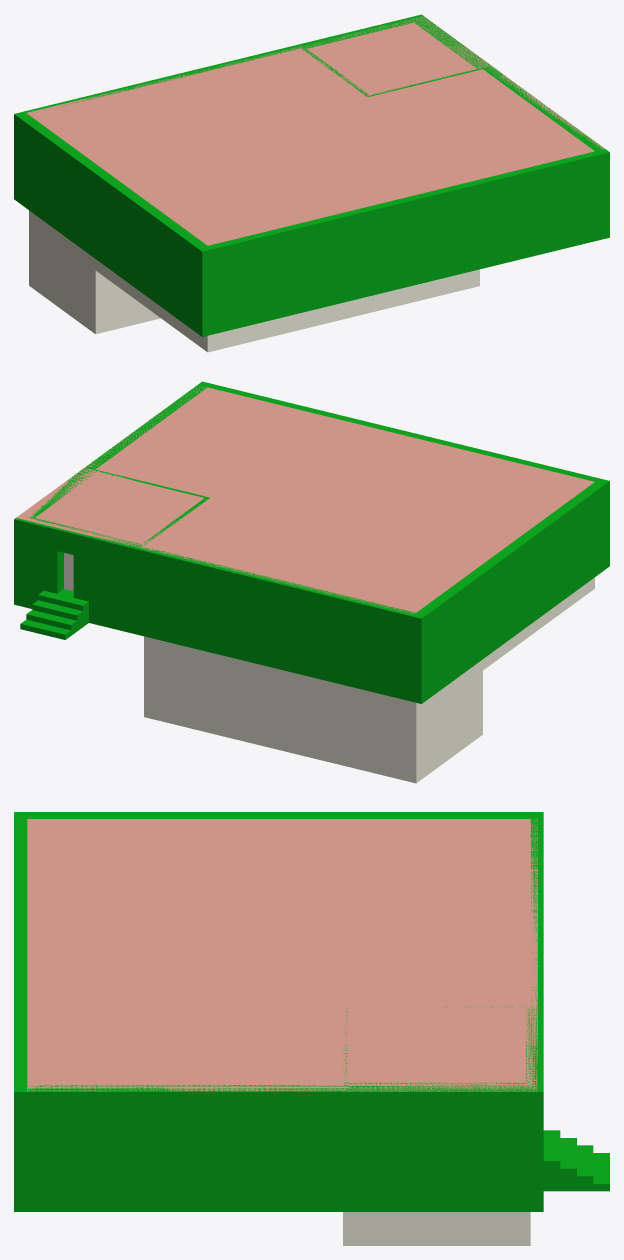
The model's file is building.gltf.
3 renders of one model, top to bottom at view 1: azimuth 30°, elevation 25°; view 2: azimuth 150°, elevation 25°; view 3: azimuth 270°, elevation 25°, orthographic. The views are drawn at different scales.
Visible parts, largest first — view 1: Building; view 2: Building; view 3: Building.
Part boxes in pixels (x1,y1,x2,y2): Building: (14,14,609,352); Building: (14,381,609,783); Building: (14,812,609,1245).
Bounding box in the file's own units: 2000 × 800 × 1800.
